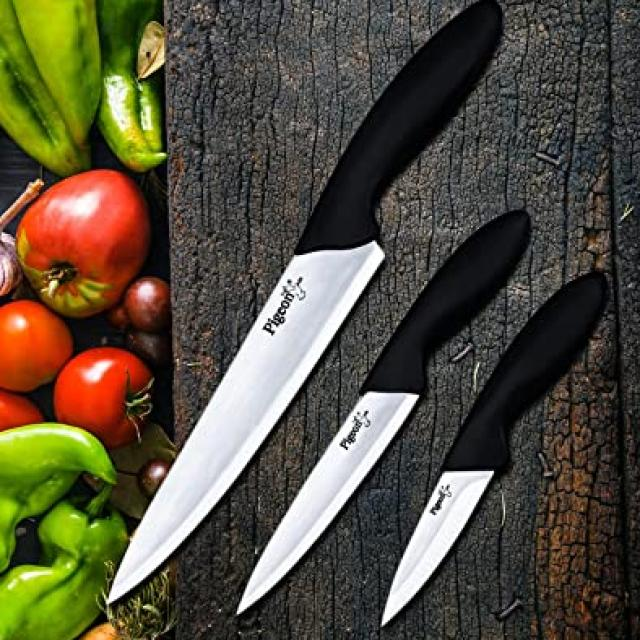Weapon: (112, 2, 500, 599), (239, 211, 530, 611), (383, 271, 604, 622)
